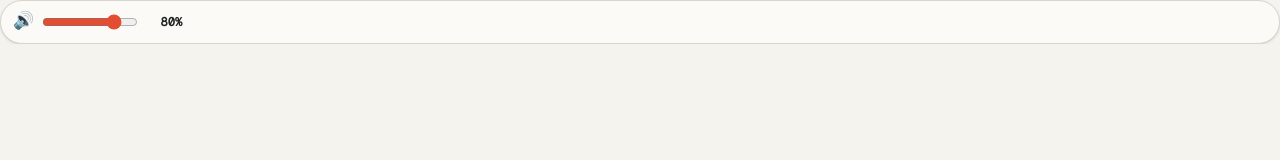
Test: ชุดใหม่ #5: เลื่อนแถบแล้วระดับเสียงของเกมเปลี่ยนทันที
Set the slider named "ระดับเสียง Effect" to "35" at (78, 22), box [42,18,138,26]
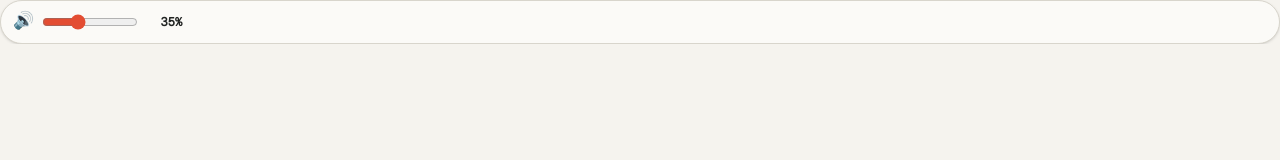
Expected: the text "35%" is shown, [161,14,182,30]
